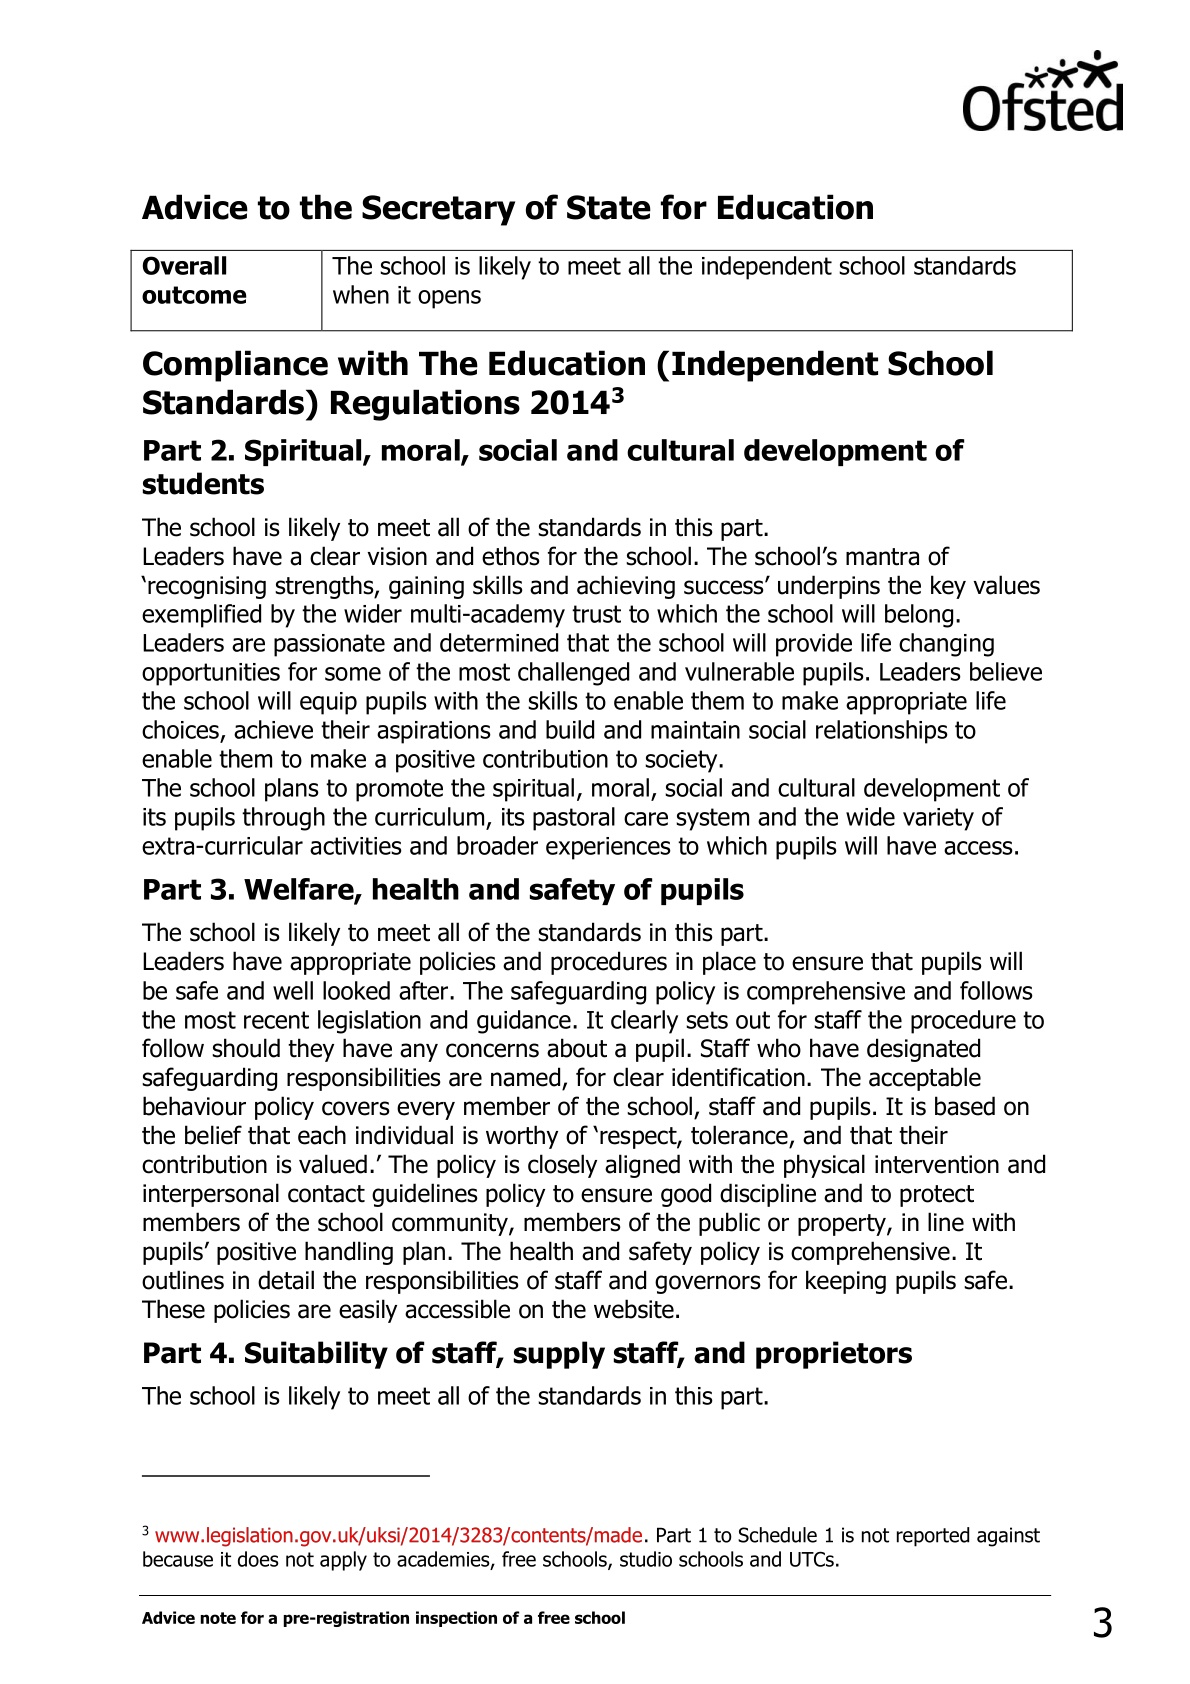full_lined: (129, 247, 1074, 333)
